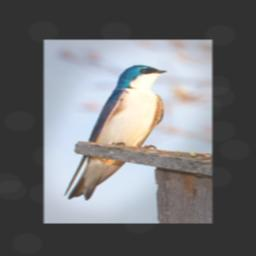Swallow: (62, 64, 168, 201)
